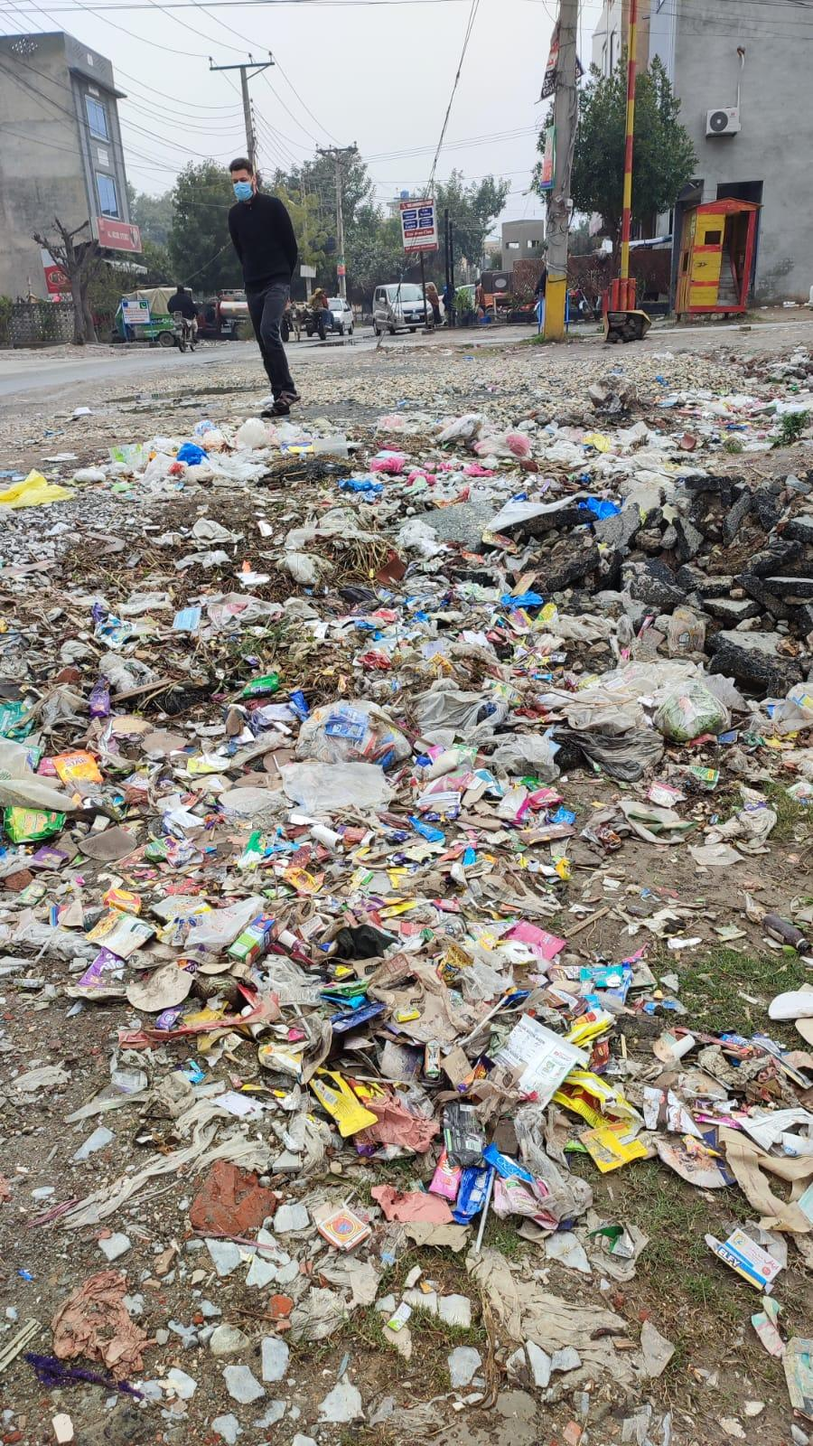garbage: (7, 407, 813, 1235)
